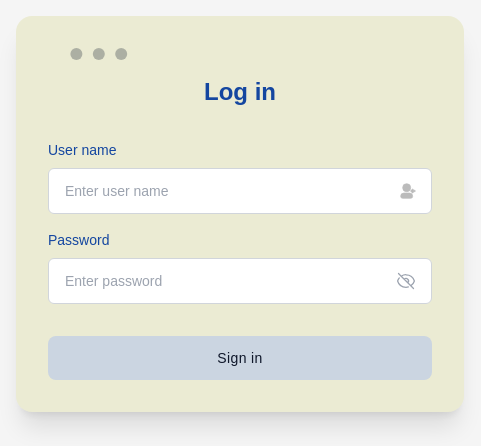
Test: Type Max+1 username and should show Max username in the username field
Type "MaxUser001MaxUser002MaxUser003MaxUser004MaxUser005MaxUser006" into the field with class "itbkk-username" at (240, 191), box left=48, top=168, right=432, bottom=214
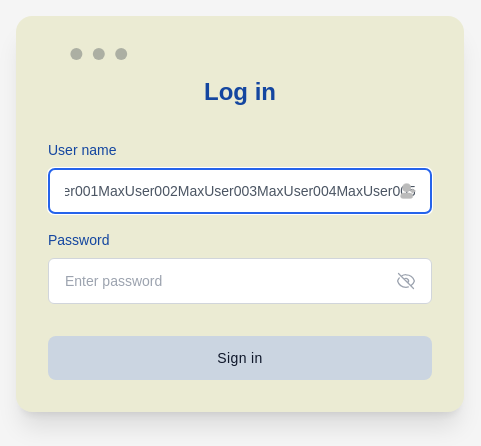
Now the field with class "itbkk-username" holds "MaxUser001MaxUser002MaxUser003MaxUser004MaxUser005", box left=48, top=168, right=432, bottom=214
